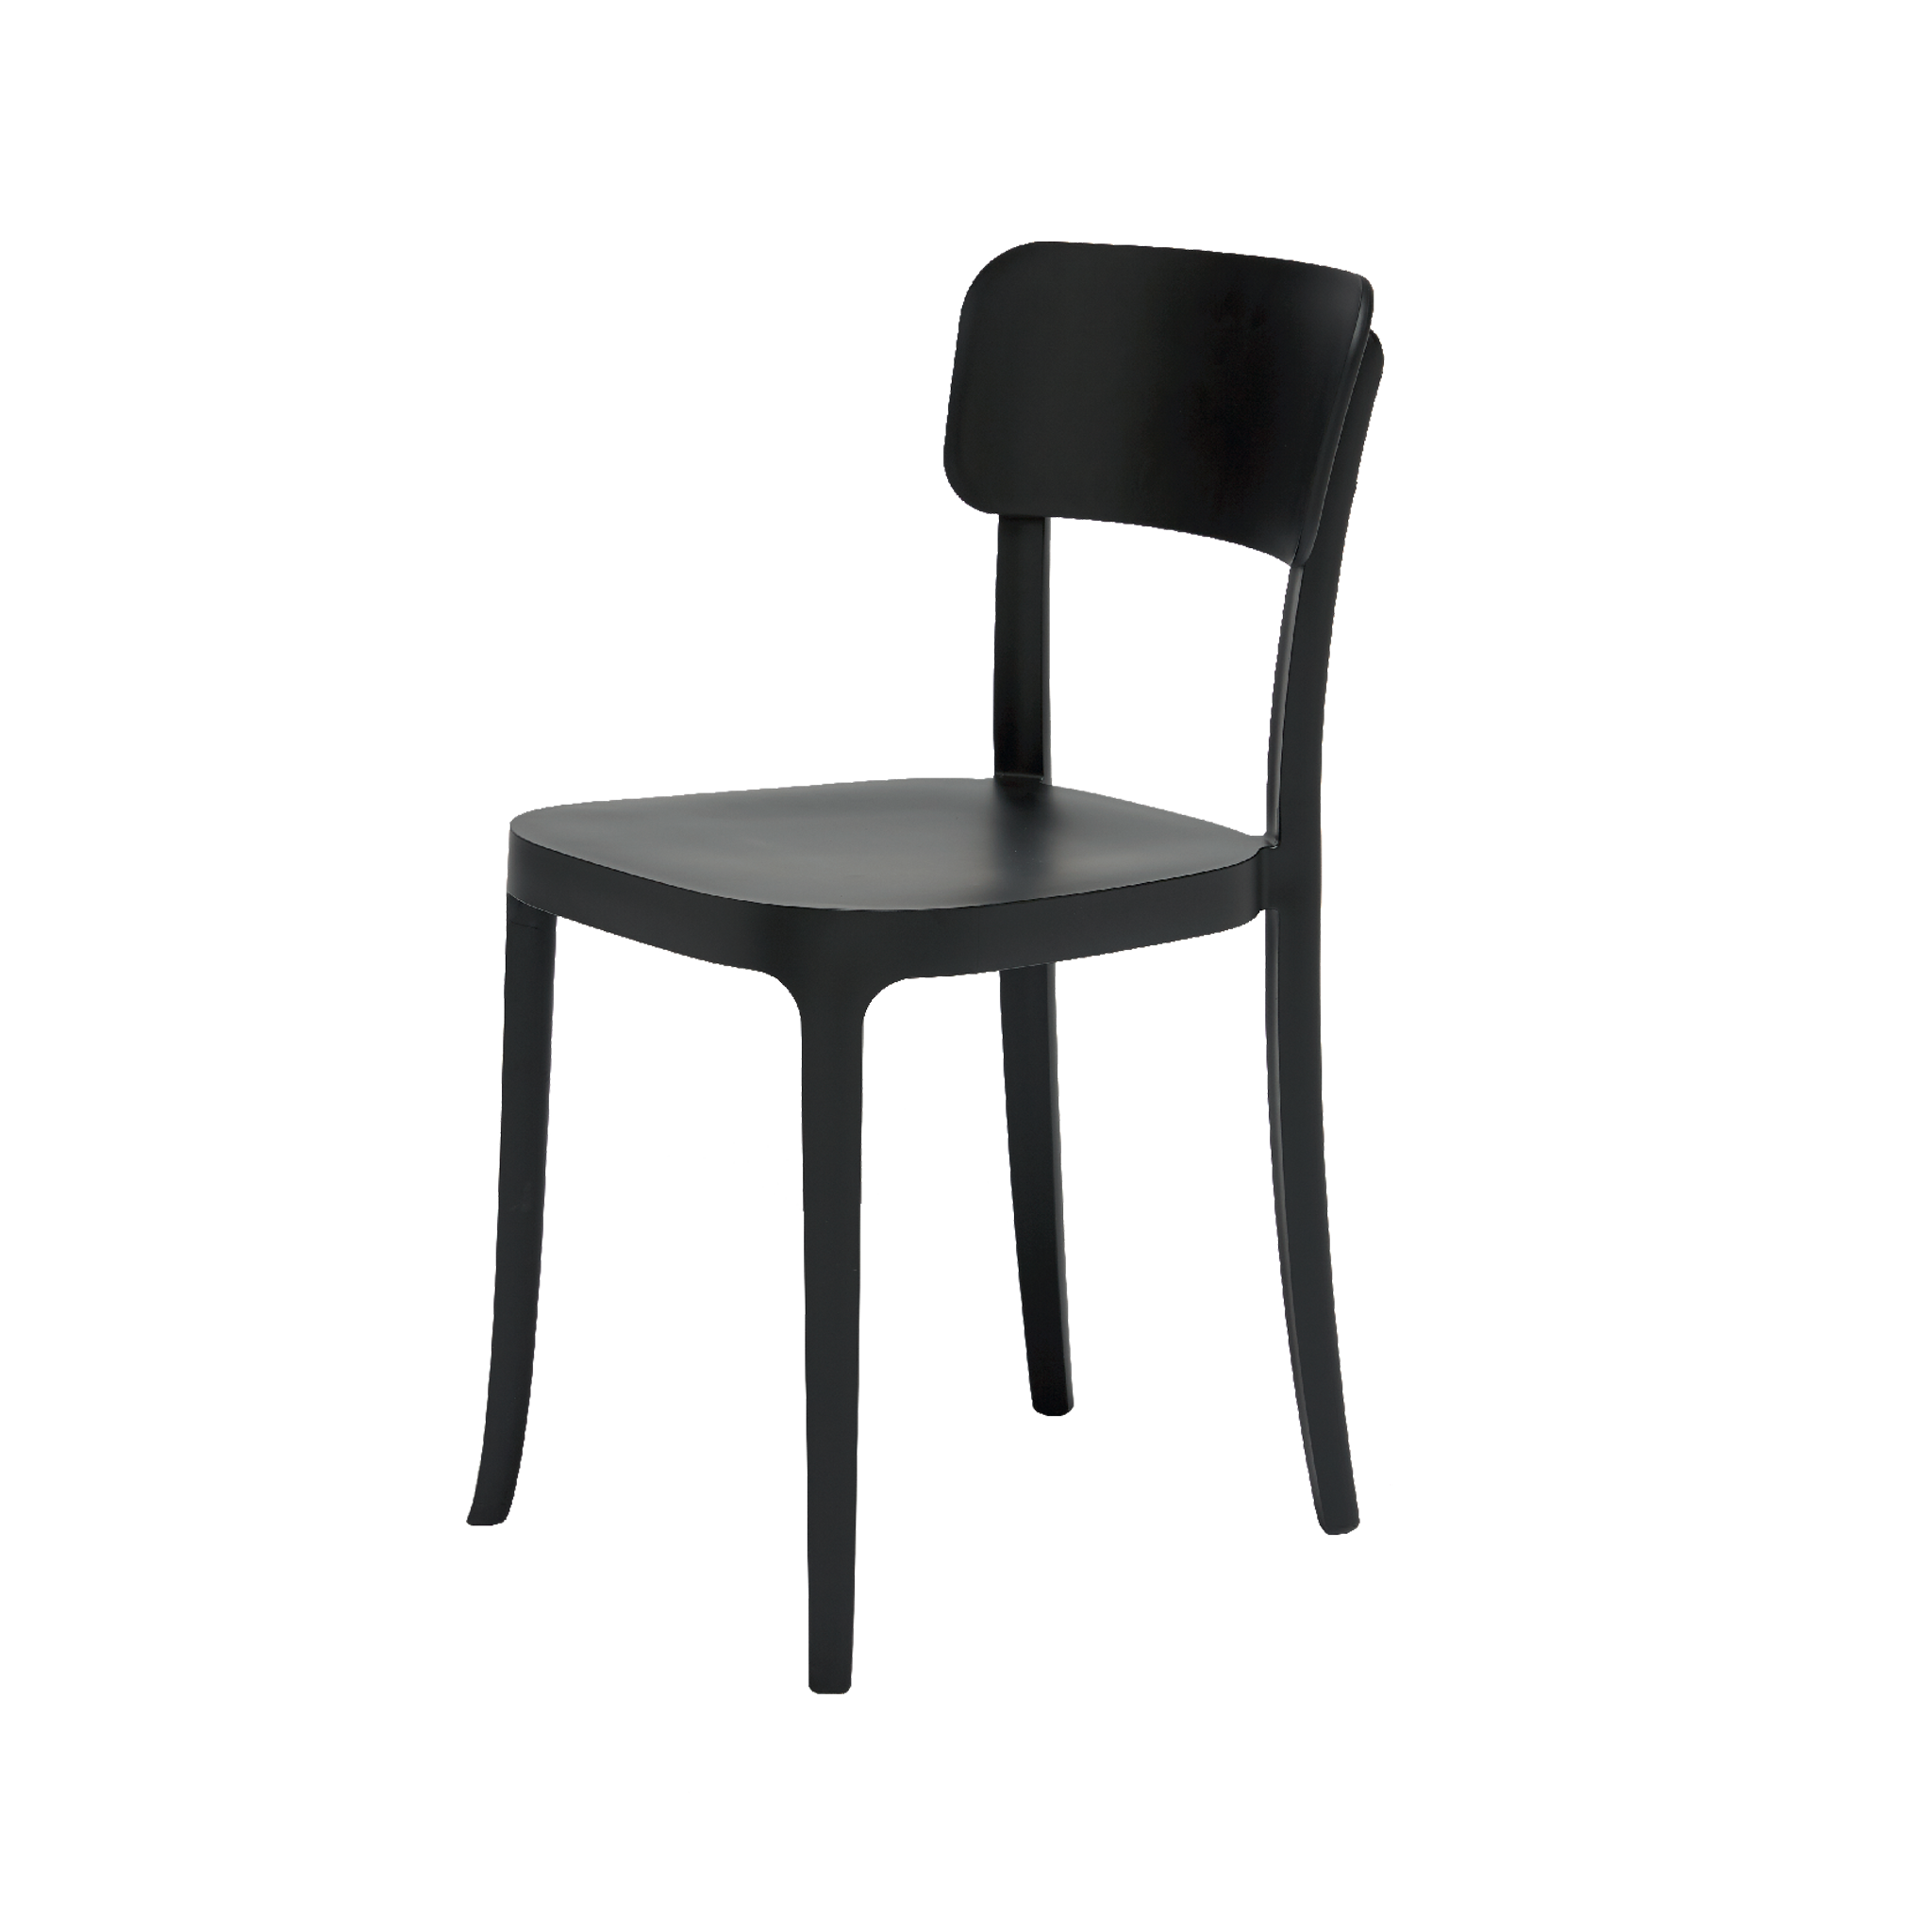chair: (297, 168, 1525, 1746)
